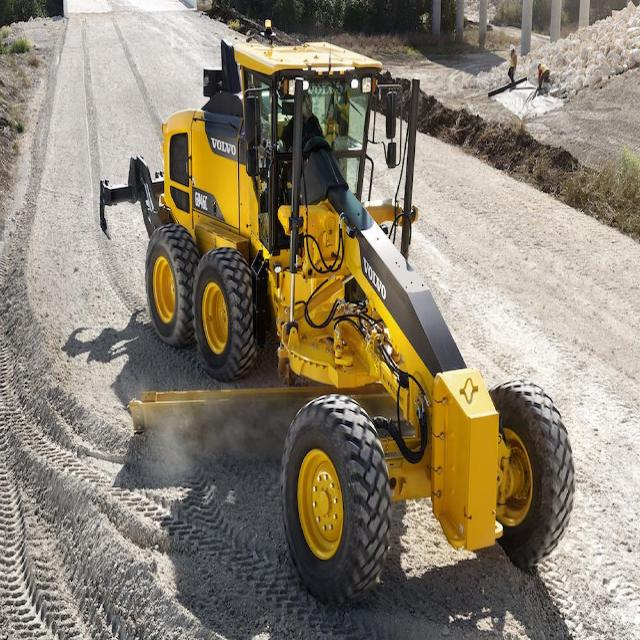Grader: (89, 30, 571, 601)
